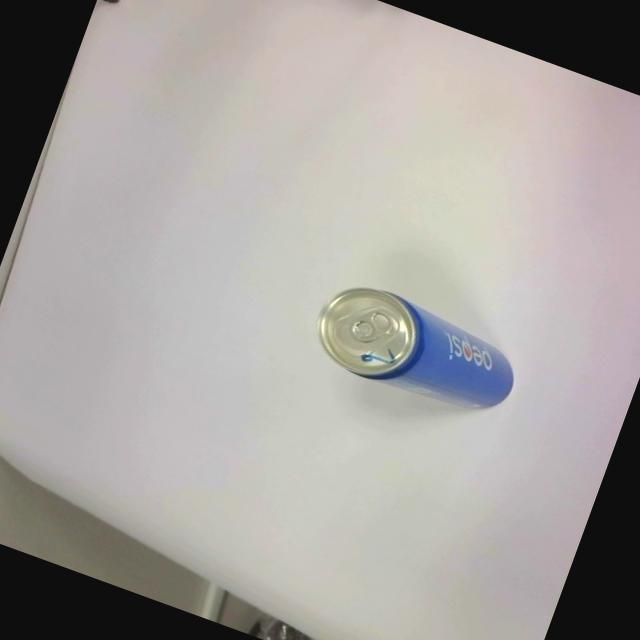debris: (302, 271, 528, 428)
